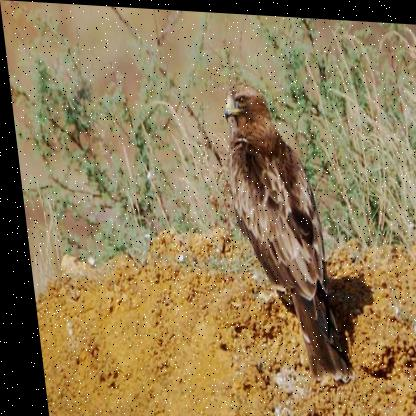Burung: (216, 85, 350, 376)
